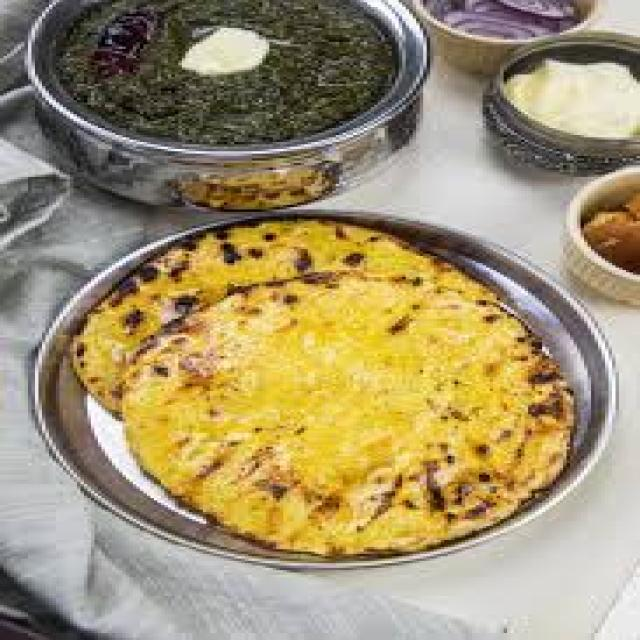BAJI: (55, 0, 404, 145)
ROTI: (77, 219, 575, 555)
